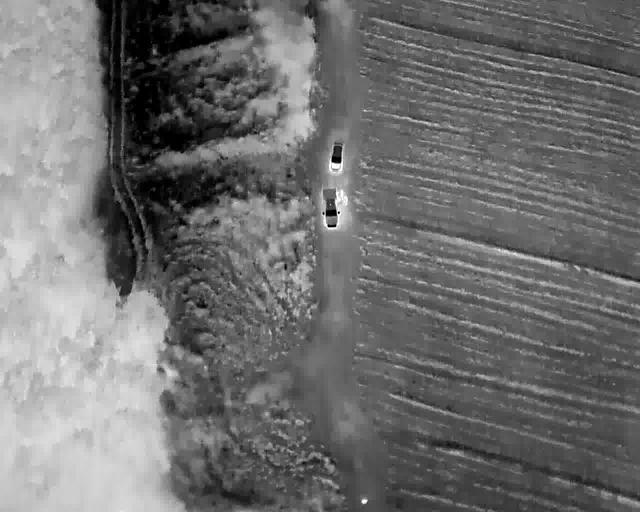car: (321, 188, 340, 228), (328, 141, 343, 174)
person: (342, 195, 348, 206), (339, 189, 343, 200), (361, 498, 367, 504)
